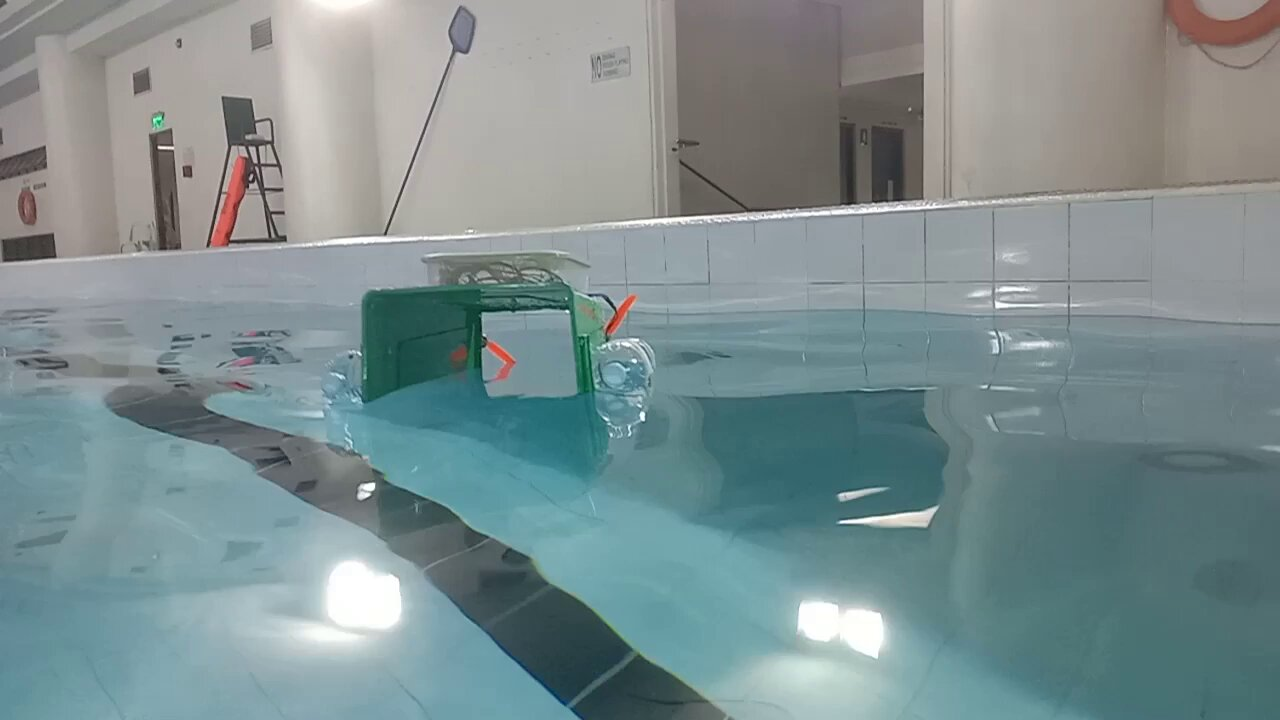drone: (319, 249, 659, 406)
